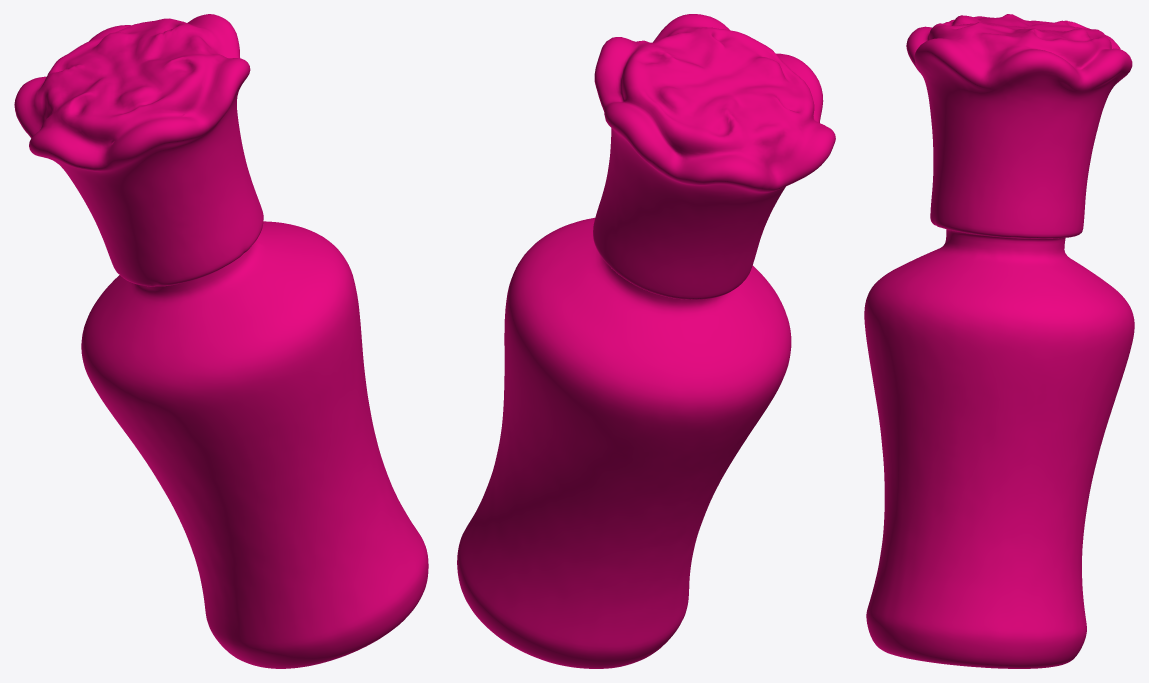
Rendered from mexican_pink_perfume_bottle1.glb.
The picture shows the model from 3 angles, left to right: view 1: azimuth 30°, elevation 25°; view 2: azimuth 150°, elevation 25°; view 3: azimuth 270°, elevation 25°; orthographic projection. The views are drawn at different scales.
Parts seen in each view (by area): view 1: Mesh1_Mesh1.026; view 2: Mesh1_Mesh1.026; view 3: Mesh1_Mesh1.026.
Part boxes in pixels (x1,y1,x2,y2): Mesh1_Mesh1.026: [14, 14, 428, 668]; Mesh1_Mesh1.026: [457, 14, 835, 668]; Mesh1_Mesh1.026: [864, 14, 1134, 668].
Bounding box in the file's own units: 1.24 × 2.04 × 0.8388.
